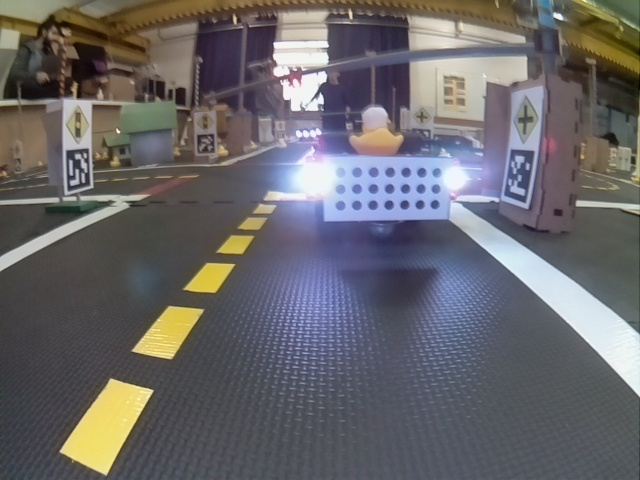Duckie: (350, 113, 402, 156), (277, 138, 286, 148), (110, 157, 117, 166)
Duckiebot: (300, 151, 465, 240)
Intersection sign: (511, 91, 536, 142), (413, 107, 429, 126)
QR code: (504, 151, 534, 206), (64, 150, 93, 194), (197, 137, 216, 154)
Signal sign: (66, 103, 90, 142), (196, 112, 214, 131)
Traffic light: (289, 71, 300, 87)
